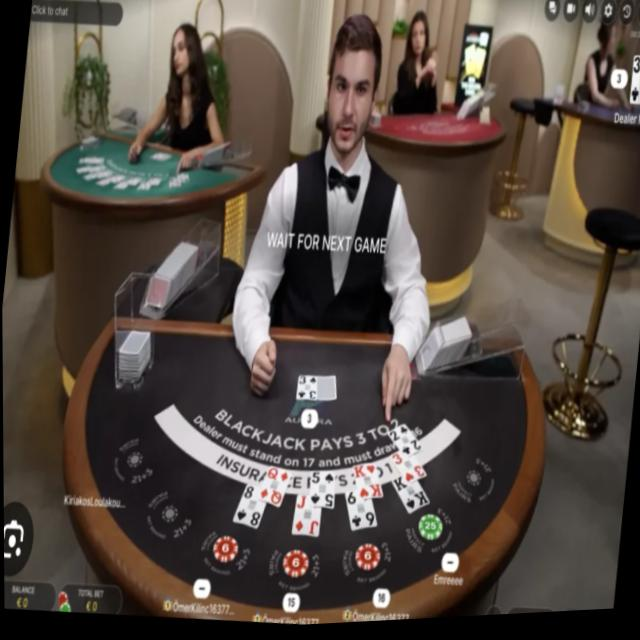Card-2: (386, 427, 422, 463)
Card-3: (389, 454, 425, 489), (295, 378, 316, 404)
Card-5: (308, 474, 334, 510)
Card-6: (344, 493, 376, 534)
Card-8: (231, 486, 265, 530)
Card-J: (290, 496, 320, 538)
Card-K: (391, 479, 428, 519), (352, 465, 382, 504)
Card-Q: (256, 468, 290, 510)
